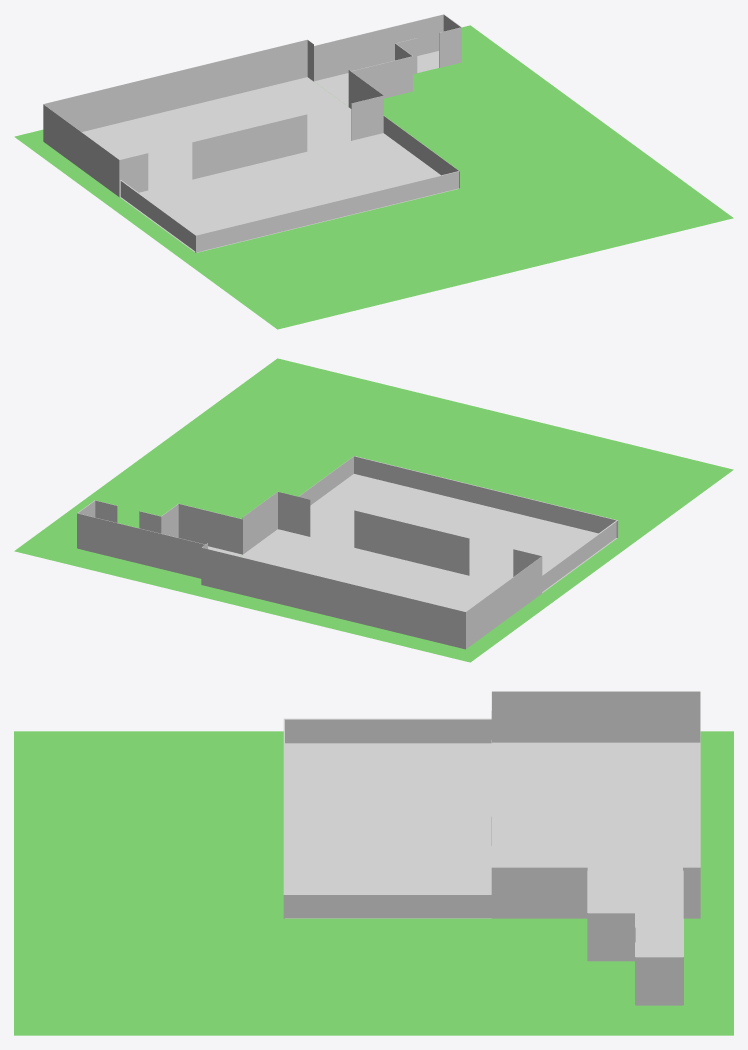
The model's file is Level.fbx.
3 views of the same model, one above another, from view 1: azimuth 30°, elevation 25°; view 2: azimuth 150°, elevation 25°; view 3: azimuth 270°, elevation 25° (orthographic). The views are drawn at different scales.
Visible parts, largest first — view 1: Plane, Plane.001, Plane.002; view 2: Plane, Plane.001, Plane.002; view 3: Plane, Plane.001, Plane.002.
Part boxes in pixels (left/top/right/bottom): Plane: left=14, top=25, right=733, bottom=329; Plane.001: left=43, top=39, right=459, bottom=252; Plane.002: left=314, top=14, right=461, bottom=106; Plane: left=14, top=358, right=733, bottom=662; Plane.001: left=201, top=456, right=618, bottom=649; Plane.002: left=77, top=500, right=242, bottom=578; Plane: left=14, top=731, right=733, bottom=1035; Plane.001: left=283, top=691, right=700, bottom=918; Plane.002: left=587, top=870, right=683, bottom=1005.
Bounding box in the file's own units: 2000 × 157 × 2000.
